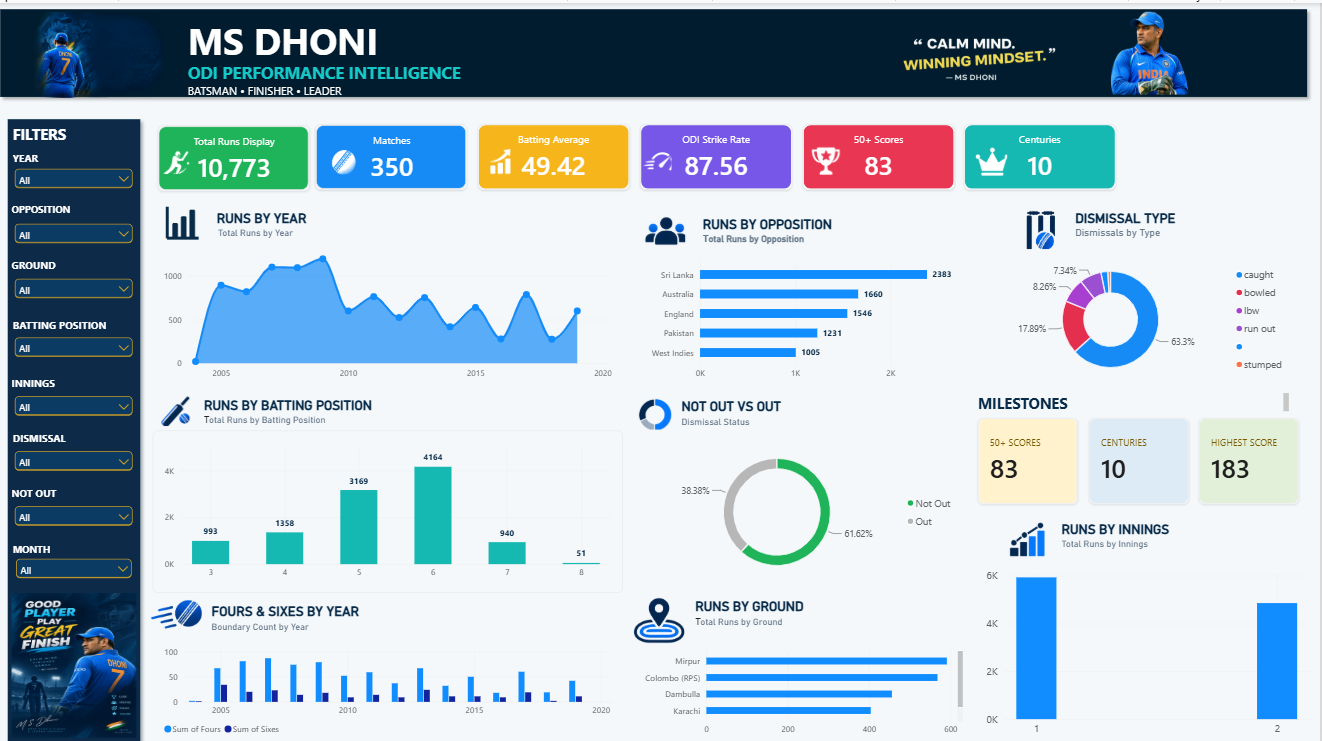

What the dashboard file says about the page in this screenshot:
{"tool":"powerbi","page":{"name":"Page 1","canvas":[1920,1080],"ordinal":0},"visuals":[{"type":"shape","box":[0,0,1910,145],"z":1000},{"type":"textbox","box":[280.5,0,1561.7,121.2],"z":2000},{"type":"textbox","box":[280.5,85.1,1127.4,150.2],"z":3000},{"type":"textbox","box":[280.5,97.7,865,150.2],"z":4000},{"type":"shape","box":[10.9,159.3,209.9,921.1],"z":5000},{"type":"textbox","box":[28,175,120,30],"z":6000},{"type":"slicer","fields":{"Values":["DateTable.Year"]},"box":[25.3,235.3,180,55],"z":7000},{"type":"textbox","box":[27.1,213.5,209.9,21.7],"z":8000},{"type":"slicer","fields":{"Values":["MS_Dhoni_ODI_Analytics_Clean.Opposition"]},"box":[25,315,180,55],"z":9000},{"type":"textbox","box":[25.3,289.5,209.9,67],"z":10000},{"type":"slicer","fields":{"Values":["MS_Dhoni_ODI_Analytics_Clean.Ground"]},"box":[25.3,395,180,55],"z":11000},{"type":"textbox","box":[25.3,369.2,209.9,32.6],"z":12000},{"type":"slicer","fields":{"Values":["MS_Dhoni_ODI_Analytics_Clean.BattingPosition"]},"box":[25.3,480,180,55],"z":13000},{"type":"textbox","box":[27.1,456,209.9,45.2],"z":14000},{"type":"slicer","fields":{"Values":["MS_Dhoni_ODI_Analytics_Clean.Innings"]},"box":[25.3,564.6,180,55],"z":15000},{"type":"textbox","box":[25.3,539.3,209.9,25.3],"z":16000},{"type":"slicer","fields":{"Values":["MS_Dhoni_ODI_Analytics_Clean.Dismissal"]},"box":[25.3,645,180,55],"z":17000},{"type":"textbox","box":[27.1,618.9,209.9,45.2],"z":18000},{"type":"slicer","fields":{"Values":["MS_Dhoni_ODI_Analytics_Clean.Dismissal"]},"box":[25.3,723.9,180,55],"z":19000},{"type":"textbox","box":[25.3,698.5,209.9,23.5],"z":20000},{"type":"cardVisual","title":"TOTAL RUNS","fields":{"Data":["MS_Dhoni_ODI_Analytics_Clean.Total Runs Display"]},"box":[237.1,177.3,220,95],"z":21000},{"type":"cardVisual","title":"TOTAL RUNS","fields":{"Data":["MS_Dhoni_ODI_Analytics_Clean.Matches"]},"box":[465,175,220,95],"z":22000},{"type":"cardVisual","title":"TOTAL RUNS","fields":{"Data":["MS_Dhoni_ODI_Analytics_Clean.Batting Average"]},"box":[700,175,220,95],"z":23000},{"type":"cardVisual","title":"TOTAL RUNS","fields":{"Data":["MS_Dhoni_ODI_Analytics_Clean.ODI Strike Rate"]},"box":[935,175,220,95],"z":24000},{"type":"cardVisual","title":"TOTAL RUNS","fields":{"Data":["DateTable.50+ Scores"]},"box":[1170,175.5,220,95],"z":25000},{"type":"cardVisual","title":"TOTAL RUNS","fields":{"Data":["DateTable.Centuries"]},"box":[1405,175,220,95],"z":26000},{"type":"areaChart","title":" RUNS BY YEAR","fields":{"Category":["DateTable.Year"],"Y":["MS_Dhoni_ODI_Analytics_Clean.Total Runs"]},"box":[229.8,342,680.4,222.6],"z":27000},{"type":"clusteredBarChart","title":"RUNS BY OPPOSITION","fields":{"Category":["MS_Dhoni_ODI_Analytics_Clean.Opposition"],"Y":["MS_Dhoni_ODI_Analytics_Clean.Total Runs"]},"box":[930.2,352.9,479.6,211.7],"z":28000},{"type":"donutChart","title":"DISMISSAL TYPE","fields":{"Category":["MS_Dhoni_ODI_Analytics_Clean.Dismissal"],"Y":["MS_Dhoni_ODI_Analytics_Clean.Dismissed Innings"]},"box":[1420.6,352.9,468.7,211.7],"z":29000},{"type":"clusteredColumnChart","title":"RUNS BY BATTING POSITION","fields":{"Category":["MS_Dhoni_ODI_Analytics_Clean.BattingPosition"],"Y":["MS_Dhoni_ODI_Analytics_Clean.Total Runs"]},"box":[229.8,618.9,680.4,235.3],"z":30000},{"type":"donutChart","title":"NOT OUT VS OUT","fields":{"Y":["CountNonNull(MS_Dhoni_ODI_Analytics_Clean.NotOut)","MS_Dhoni_ODI_Analytics_Clean.Dismissed Innings"]},"box":[930.2,620.7,479.6,233.4],"z":31000},{"type":"cardVisual","fields":{"Data":["DateTable.50+ Scores"]},"box":[1425,600,145,125],"z":32000},{"type":"cardVisual","fields":{"Data":["DateTable.Centuries"]},"box":[1585,600,145,125],"z":33000},{"type":"cardVisual","fields":{"Data":["Max(MS_Dhoni_ODI_Analytics_Clean.Runs)"]},"box":[1745,600,145,125],"z":34000},{"type":"textbox","box":[1425,565,450,35],"z":35000},{"type":"slicer","fields":{"Values":["DateTable.Month"]},"box":[27.1,799.9,177.3,54.3],"z":36000},{"type":"textbox","box":[27.1,781.8,209.9,45.2],"z":37000},{"type":"image","box":[1450,13,280,120],"z":38000},{"type":"clusteredColumnChart","title":"FOURS & SIXES BY YEAR","fields":{"Category":["DateTable.Year"],"Y":["Sum(MS_Dhoni_ODI_Analytics_Clean.Fours)","Sum(MS_Dhoni_ODI_Analytics_Clean.Sixes)"]},"box":[229.8,915.7,680.4,164.7],"z":39000},{"type":"clusteredBarChart","title":"RUNS BY GROUND","fields":{"Category":["MS_Dhoni_ODI_Analytics_Clean.Ground"],"Y":["MS_Dhoni_ODI_Analytics_Clean.Total Runs"]},"box":[919.3,915.7,499.5,164.7],"z":40000},{"type":"clusteredColumnChart","title":"RUNS BY INNINGS","fields":{"Category":["MS_Dhoni_ODI_Analytics_Clean.Innings"],"Y":["MS_Dhoni_ODI_Analytics_Clean.Total Runs"]},"box":[1420.6,803.5,499.5,276.9],"z":41000},{"type":"image","box":[25.3,854.2,181,209.9],"z":42000},{"type":"image","box":[245,186,40,90],"z":43000},{"type":"image","box":[475,179.2,52.5,90.5],"z":44000},{"type":"image","box":[713,184.6,40,90],"z":45000},{"type":"image","box":[940,185,43,90],"z":46000},{"type":"image","box":[1181.7,173.7,45,110],"z":47000},{"type":"image","box":[1418.8,184.6,50.7,90.5],"z":48000},{"type":"textbox","box":[307.6,300,602.6,52.5],"z":49000},{"type":"image","box":[229.8,285,85.1,68.8],"z":50000},{"type":"textbox","box":[1026.1,309.5,355,86.9],"z":50001},{"type":"image","box":[939.2,289.5,65.1,76],"z":50002},{"type":"textbox","box":[1565.4,300.4,309.5,77.8],"z":50003},{"type":"image","box":[1485.7,296.8,79.6,63.3],"z":50004},{"type":"textbox","box":[304,571.9,445.2,59.7],"z":50005},{"type":"image","box":[222.6,566.4,85.1,48.9],"z":50006},{"type":"textbox","box":[995.3,573.7,284.1,41.6],"z":50007},{"type":"image","box":[919.3,570,76,50.7],"z":50008},{"type":"textbox","box":[314.9,870.4,361.9,61.5],"z":50009},{"type":"image","box":[222.6,854.2,85.1,61.5],"z":50010},{"type":"textbox","box":[1015.2,863.2,284.1,61.5],"z":50011},{"type":"image","box":[921.1,856,83.2,76],"z":50012},{"type":"textbox","box":[1545.5,751,284.1,65.1],"z":50013},{"type":"image","box":[1458.6,740.2,67,74.2],"z":50014},{"type":"image","box":[1212.5,0,416.2,222.6],"z":50015},{"type":"image","box":[29,12.7,244.3,124.9],"z":50016}]}

Visuals, with their boxes in screenshot pixels (x1, y1, x2, y2), scaled from the page's 1920x1080 canvas onto the 1322x741 screenshot:
shape: rect(0, 0, 1315, 99)
textbox: rect(193, 0, 1268, 83)
textbox: rect(193, 58, 969, 161)
textbox: rect(193, 67, 789, 170)
shape: rect(8, 109, 152, 740)
textbox: rect(19, 120, 102, 141)
slicer - DateTable.Year: rect(17, 161, 141, 199)
textbox: rect(19, 146, 163, 161)
slicer - MS_Dhoni_ODI_Analytics_Clean.Opposition: rect(17, 216, 141, 254)
textbox: rect(17, 199, 162, 245)
slicer - MS_Dhoni_ODI_Analytics_Clean.Ground: rect(17, 271, 141, 309)
textbox: rect(17, 253, 162, 276)
slicer - MS_Dhoni_ODI_Analytics_Clean.BattingPosition: rect(17, 329, 141, 367)
textbox: rect(19, 313, 163, 344)
slicer - MS_Dhoni_ODI_Analytics_Clean.Innings: rect(17, 387, 141, 425)
textbox: rect(17, 370, 162, 387)
slicer - MS_Dhoni_ODI_Analytics_Clean.Dismissal: rect(17, 443, 141, 480)
textbox: rect(19, 425, 163, 456)
slicer - MS_Dhoni_ODI_Analytics_Clean.Dismissal: rect(17, 497, 141, 534)
textbox: rect(17, 479, 162, 495)
"TOTAL RUNS" cardVisual: rect(163, 122, 315, 187)
"TOTAL RUNS" cardVisual: rect(320, 120, 472, 185)
"TOTAL RUNS" cardVisual: rect(482, 120, 633, 185)
"TOTAL RUNS" cardVisual: rect(644, 120, 795, 185)
"TOTAL RUNS" cardVisual: rect(806, 120, 957, 186)
"TOTAL RUNS" cardVisual: rect(967, 120, 1119, 185)
" RUNS BY YEAR" areaChart: rect(158, 235, 627, 387)
"RUNS BY OPPOSITION" clusteredBarChart: rect(640, 242, 971, 387)
"DISMISSAL TYPE" donutChart: rect(978, 242, 1301, 387)
"RUNS BY BATTING POSITION" clusteredColumnChart: rect(158, 425, 627, 586)
"NOT OUT VS OUT" donutChart: rect(640, 426, 971, 586)
cardVisual - DateTable.50+ Scores: rect(981, 412, 1081, 497)
cardVisual - DateTable.Centuries: rect(1091, 412, 1191, 497)
cardVisual - Max(MS_Dhoni_ODI_Analytics_Clean.Runs): rect(1202, 412, 1301, 497)
textbox: rect(981, 388, 1291, 412)
slicer - DateTable.Month: rect(19, 549, 141, 586)
textbox: rect(19, 536, 163, 567)
image: rect(998, 9, 1191, 91)
"FOURS & SIXES BY YEAR" clusteredColumnChart: rect(158, 628, 627, 740)
"RUNS BY GROUND" clusteredBarChart: rect(633, 628, 977, 740)
"RUNS BY INNINGS" clusteredColumnChart: rect(978, 551, 1321, 740)
image: rect(17, 586, 142, 730)
image: rect(169, 128, 196, 189)
image: rect(327, 123, 363, 185)
image: rect(491, 127, 518, 188)
image: rect(647, 127, 677, 189)
image: rect(814, 119, 845, 195)
image: rect(977, 127, 1012, 189)
textbox: rect(212, 206, 627, 242)
image: rect(158, 196, 217, 243)
textbox: rect(707, 212, 951, 272)
image: rect(647, 199, 692, 251)
textbox: rect(1078, 206, 1291, 259)
image: rect(1023, 204, 1078, 247)
textbox: rect(209, 392, 516, 433)
image: rect(153, 389, 212, 422)
textbox: rect(685, 394, 881, 422)
image: rect(633, 391, 685, 426)
textbox: rect(217, 597, 466, 639)
image: rect(153, 586, 212, 628)
textbox: rect(699, 592, 895, 634)
image: rect(634, 587, 692, 639)
textbox: rect(1064, 515, 1260, 560)
image: rect(1004, 508, 1050, 559)
image: rect(835, 0, 1121, 153)
image: rect(20, 9, 188, 94)
